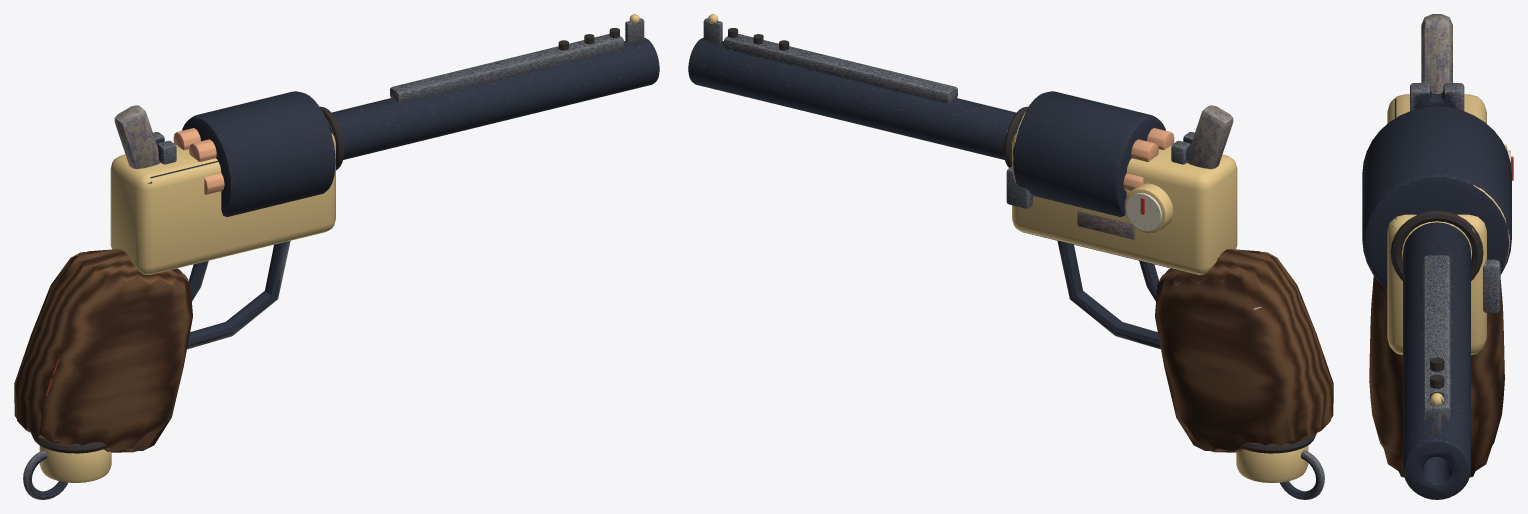
The model's file is cormorant.glb.
3 views of the same model, side by side, from view 1: azimuth 30°, elevation 25°; view 2: azimuth 150°, elevation 25°; view 3: azimuth 270°, elevation 25° (orthographic). The views are drawn at different scales.
Parts seen in each view (by area): view 1: grip, frame, barrel, cylinder, vent_rib, trigger_guard, hammer, bulb_cap, lanyard_ring; view 2: grip, barrel, frame, cylinder, vent_rib, trigger_guard, hammer, bulb_cap, gauge_face, maker, gauge, lanyard_ring; view 3: cylinder, barrel, grip, frame, vent_rib, hammer, barrel_seal, rear_sight, crane, front_sight, vent0, vent1.
Part boxes in pixels (bbox=[...]): grip: bbox=[14, 249, 192, 452]; frame: bbox=[110, 133, 335, 274]; barrel: bbox=[327, 38, 659, 159]; cylinder: bbox=[182, 91, 335, 216]; vent_rib: bbox=[390, 34, 624, 103]; trigger_guard: bbox=[187, 241, 290, 349]; hammer: bbox=[114, 105, 160, 169]; bulb_cap: bbox=[39, 445, 111, 482]; lanyard_ring: bbox=[23, 450, 67, 499]; grip: bbox=[1155, 249, 1333, 452]; barrel: bbox=[688, 38, 1020, 159]; frame: bbox=[1012, 133, 1237, 274]; cylinder: bbox=[1012, 91, 1165, 216]; vent_rib: bbox=[723, 34, 957, 103]; trigger_guard: bbox=[1057, 241, 1160, 349]; hammer: bbox=[1187, 105, 1233, 169]; bulb_cap: bbox=[1236, 445, 1308, 482]; gauge_face: bbox=[1126, 193, 1161, 231]; maker: bbox=[1077, 211, 1134, 239]; gauge: bbox=[1124, 183, 1173, 233]; lanyard_ring: bbox=[1280, 450, 1324, 499]; cylinder: bbox=[1362, 106, 1511, 289]; barrel: bbox=[1403, 222, 1470, 499]; grip: bbox=[1369, 275, 1504, 477]; frame: bbox=[1387, 94, 1486, 355]; vent_rib: bbox=[1423, 255, 1450, 421]; hammer: bbox=[1421, 14, 1452, 93]; barrel_seal: bbox=[1390, 210, 1483, 280]; rear_sight: bbox=[1410, 83, 1464, 110]; crane: bbox=[1483, 259, 1500, 312]; front_sight: bbox=[1432, 405, 1441, 435]; vent0: bbox=[1430, 357, 1444, 371]; vent1: bbox=[1430, 374, 1444, 388].
Bounding box in the file's own units: 0.2209 × 0.1246 × 0.0334.
Materials: 1 (1 with a texture image).
